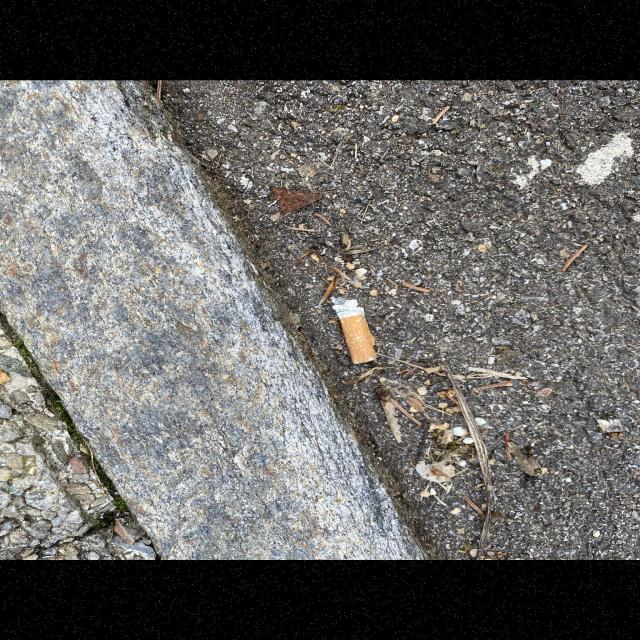other waste: (332, 298, 378, 364)
